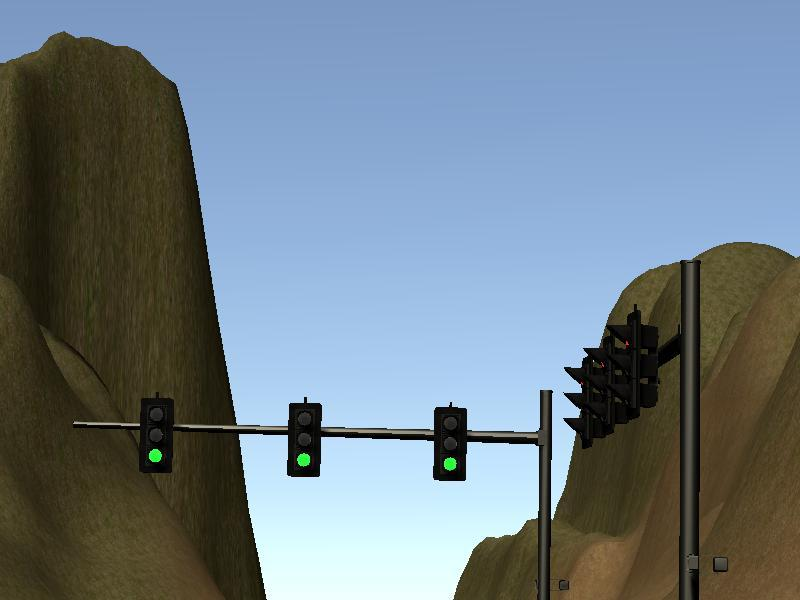Green: (288, 403, 319, 478), (140, 399, 171, 472), (433, 407, 464, 478)
